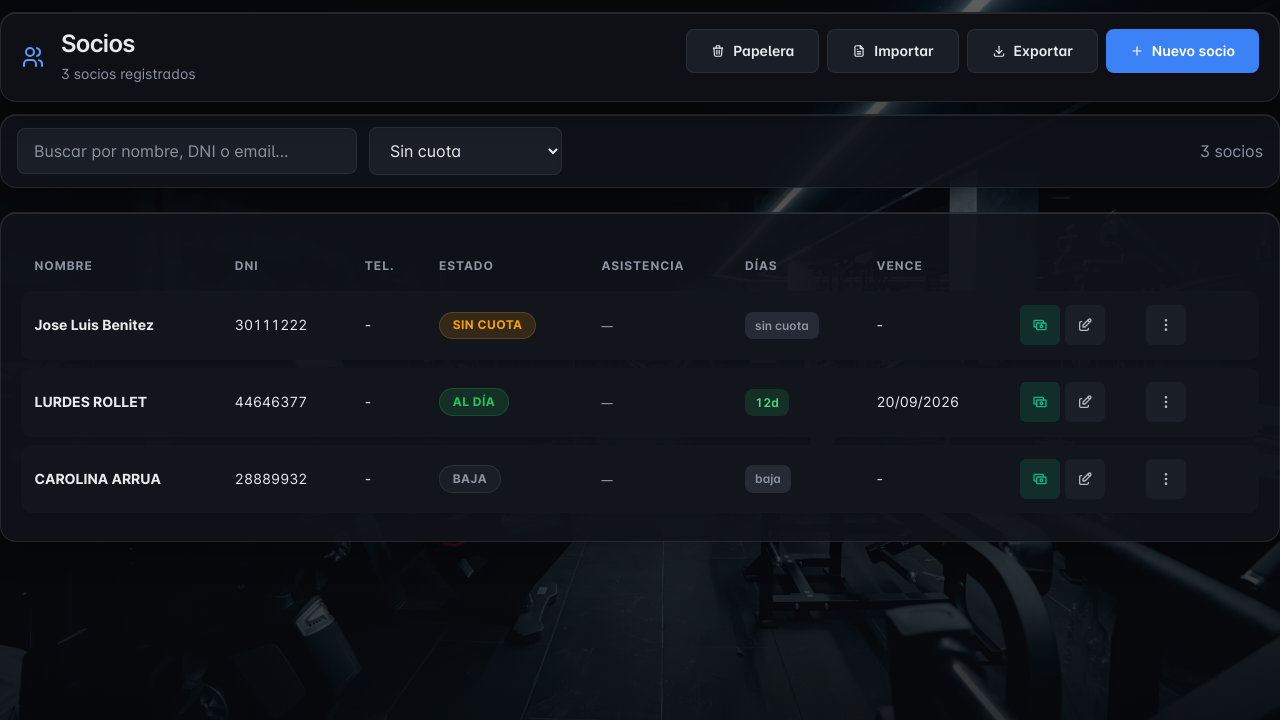
Test: el filtro "Sin cuota" › ⭐ deja solo a los que hay que cobrarles
Select "Sin cuota" in the dropdown at (466, 151), box [369,127,562,175]
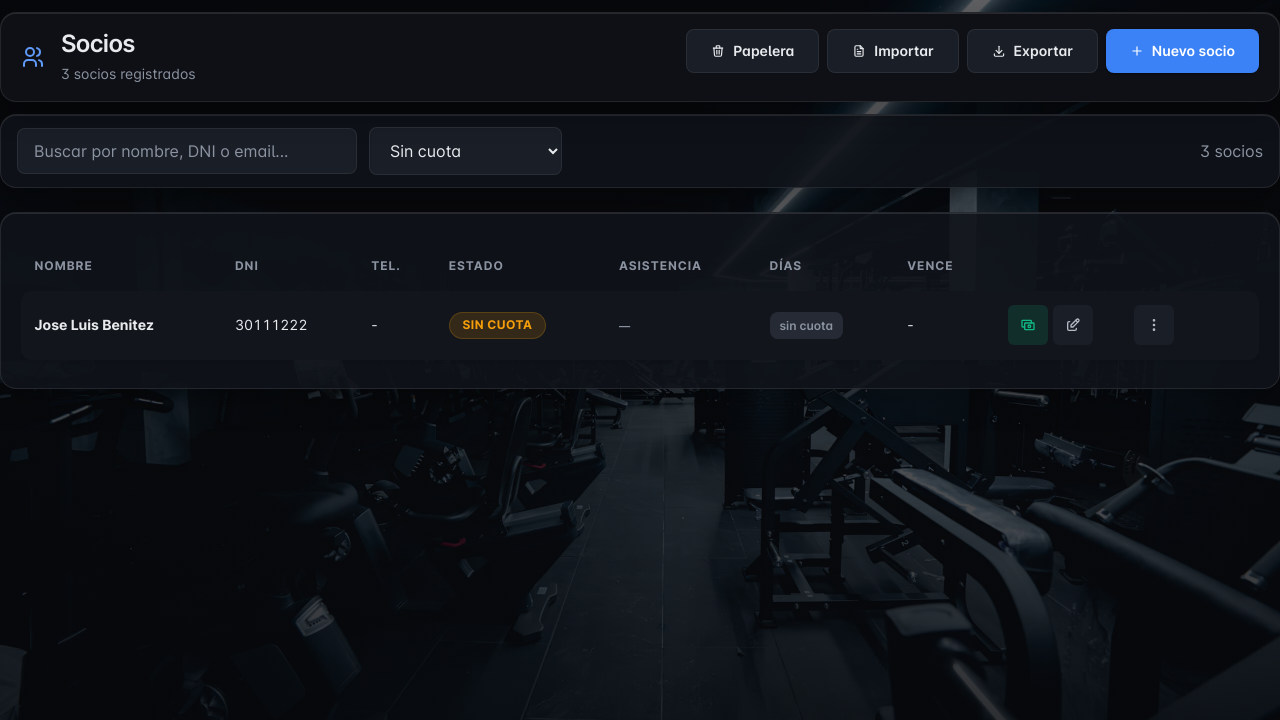
Expected: the row "Jose Luis Benitez 30111222 - Sin cuota — sin cuota -" is shown, [21,291,1259,360]
Expected: the text "LURDES ROLLET" is gone
Expected: the text "CAROLINA ARRUA" is gone
